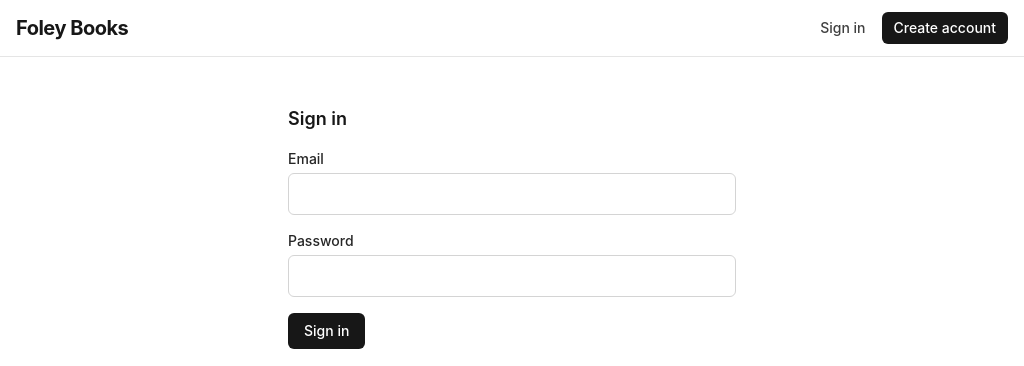
RequireAuth guard (LC-27) › cartGuard_whenGuardedVisitorLogsIn_landsOnCartAgain
Type "reader@example.com" into the field labelled "Email" at (512, 194), box [288,173,736,215]
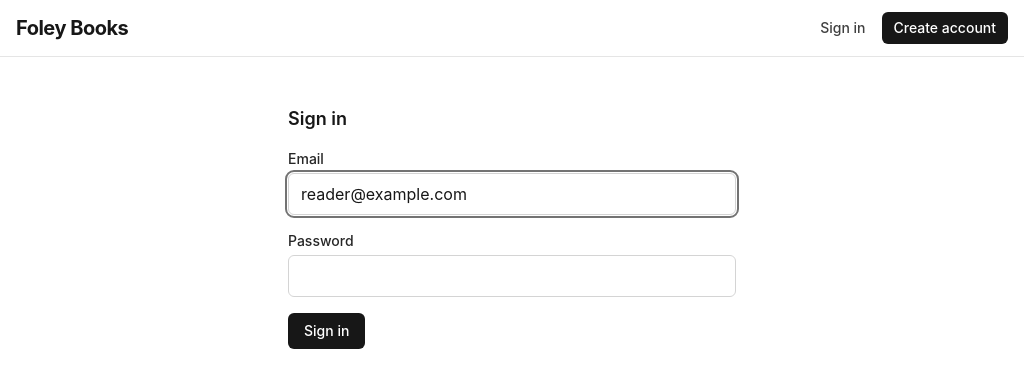
Type "Bookworm7" into the password field labelled "Password" at (512, 276), box [288,255,736,297]
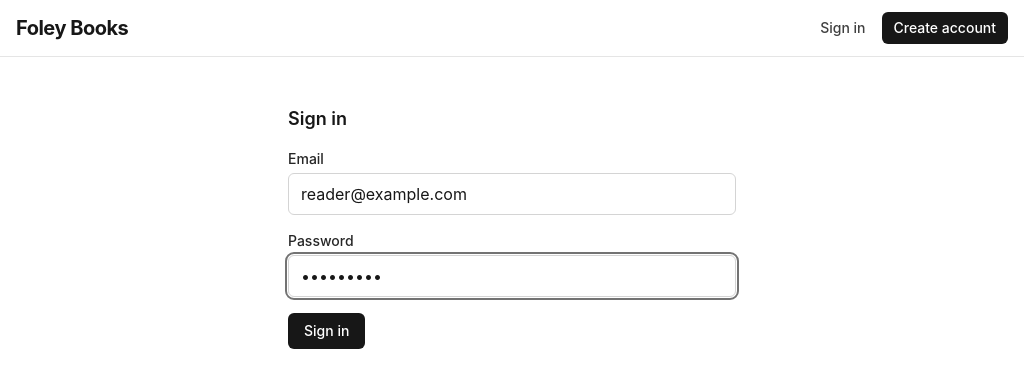
Click the button "Sign in" at (327, 331), box [288,313,365,349]
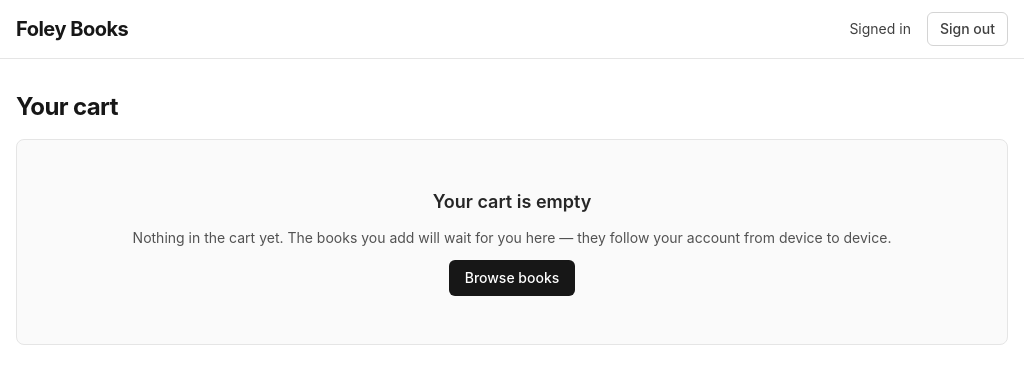
Expected: the heading "Your cart" is shown, [16,92,118,121]
Expected: the button "Sign out" is shown, [927,12,1008,46]
